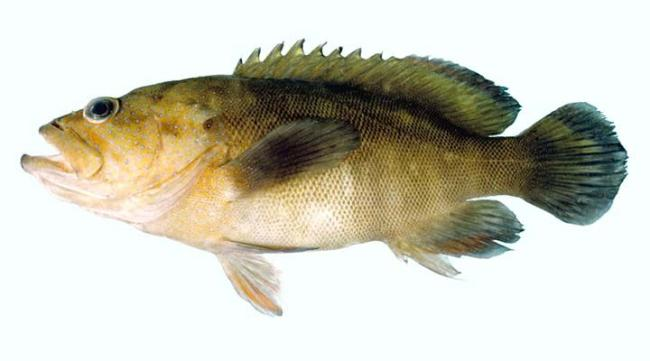fish: (20, 38, 628, 316)
